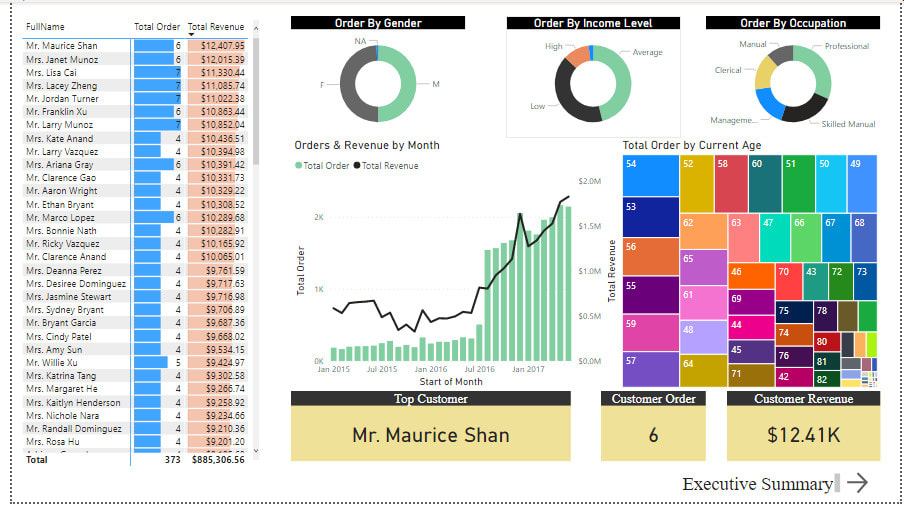

This screenshot's page, from the dashboard's own definition file:
{"tool":"powerbi","page":{"name":"Customer Detail","canvas":[1280,720],"ordinal":2},"visuals":[{"type":"pivotTable","fields":{"Values":["AW_Sales.Total Order","AW_Sales.Total Revenue"],"Rows":["AW_Customers_Lookup.FullName"]},"box":[10,20,351.4,652.9],"z":0},{"type":"donutChart","title":"Order By Gender","fields":{"Y":["AW_Sales.Total Order"],"Category":["AW_Customers_Lookup.Gender"]},"box":[401.4,20,251.4,175.7],"z":1000},{"type":"donutChart","title":"Order By Income Level","fields":{"Y":["AW_Sales.Total Order"],"Category":["AW_Customers_Lookup.IncomeLevel"]},"box":[711.4,20,251.4,175.7],"z":2000},{"type":"donutChart","title":"Order By Occupation","fields":{"Y":["AW_Sales.Total Order"],"Category":["AW_Customers_Lookup.Occupation"]},"box":[1000,20,251.4,175.7],"z":3000},{"type":"lineClusteredColumnComboChart","title":"Orders & Revenue by Month","fields":{"Category":["AW_Calendar_Lookup.Start of Month"],"Y":["AW_Sales.Total Order"],"Y2":["AW_Sales.Total Revenue"]},"box":[401.4,195.7,472.9,364.3],"z":4000},{"type":"treemap","fields":{"Values":["AW_Sales.Total Order"],"Group":["AW_Customers_Lookup.Current Age"]},"box":[874.3,195.7,377.1,364.3],"z":5000},{"type":"card","title":"Top Customer","fields":{"Values":["AW_Customers_Lookup.FullName"]},"box":[401.4,560,402.9,101.4],"z":6000},{"type":"card","title":"Customer Order","fields":{"Values":["AW_Sales.Total Order"]},"box":[848.6,560,151.4,101.4],"z":7000},{"type":"card","title":"Customer Revenue","fields":{"Values":["AW_Sales.Total Revenue"]},"box":[1030,560,221.2,101.2],"z":8000},{"type":"textbox","box":[960,674.3,237.1,38.6],"z":9000},{"type":"actionButton","box":[1197.1,672.9,54.3,40],"z":10000}]}

Visuals, with their boxes in screenshot pixels (x1, y1, x2, y2), scaled from the page's 1280x720 canvas onto the 904x509 screenshot:
pivotTable - AW_Sales.Total Order x AW_Sales.Total Revenue: bbox=[7, 14, 255, 476]
"Order By Gender" donutChart: bbox=[283, 14, 461, 138]
"Order By Income Level" donutChart: bbox=[502, 14, 680, 138]
"Order By Occupation" donutChart: bbox=[706, 14, 884, 138]
"Orders & Revenue by Month" lineClusteredColumnComboChart: bbox=[283, 138, 617, 396]
treemap - AW_Sales.Total Order x AW_Customers_Lookup.Current Age: bbox=[617, 138, 884, 396]
"Top Customer" card: bbox=[283, 396, 568, 468]
"Customer Order" card: bbox=[599, 396, 706, 468]
"Customer Revenue" card: bbox=[727, 396, 884, 467]
textbox: bbox=[678, 477, 845, 504]
actionButton: bbox=[845, 476, 884, 504]
